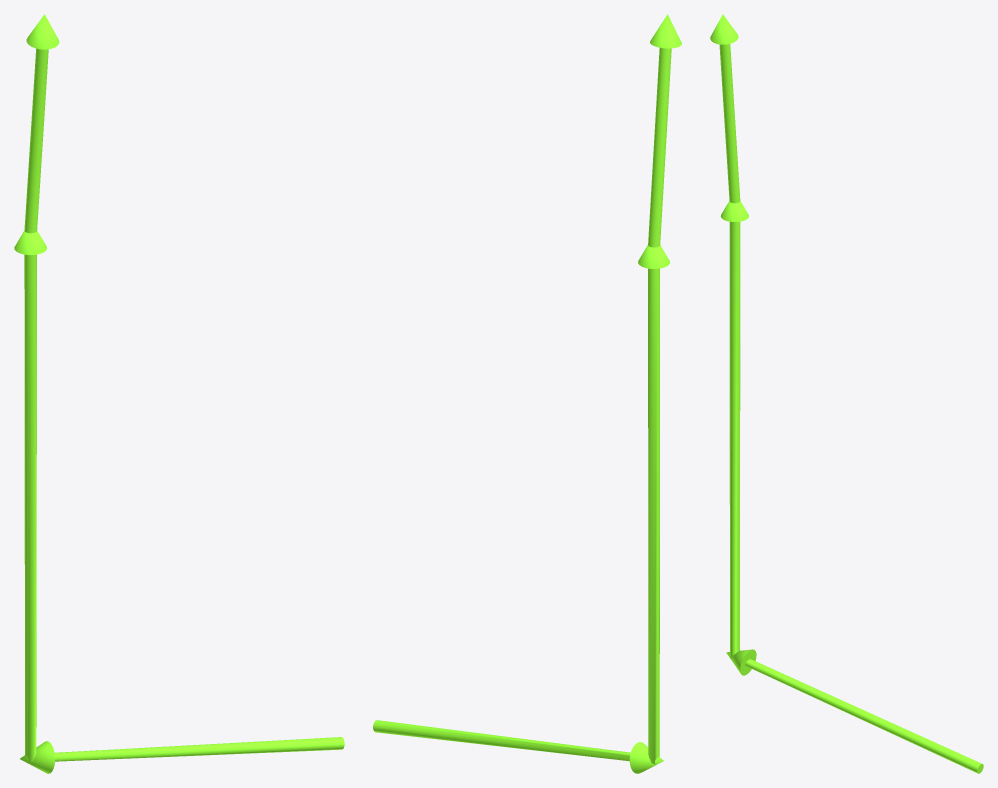
Rendered from demister_vessel_flow.glb.
The picture shows the model from 3 angles, left to right: view 1: azimuth 30°, elevation 25°; view 2: azimuth 150°, elevation 25°; view 3: azimuth 330°, elevation 25°; orthographic projection. The views are drawn at different scales.
Parts seen in each view (by area): view 1: gas; view 2: gas; view 3: gas.
Boxes of the visible parts, x1,y1,x2,y2 form: gas: [14, 14, 344, 773]; gas: [373, 14, 681, 773]; gas: [710, 14, 983, 773].
Bounding box in the file's own units: 0.6832 × 1.69 × 0.1082.
